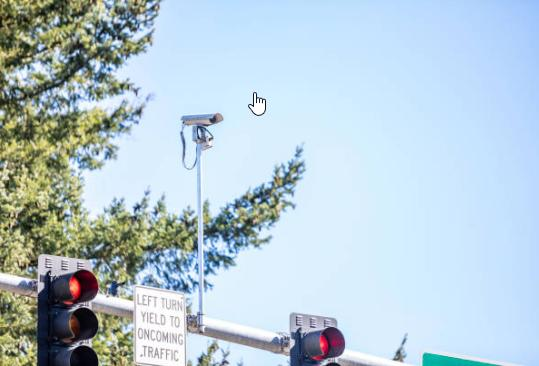red_light: (37, 254, 98, 366), (289, 311, 345, 366)
